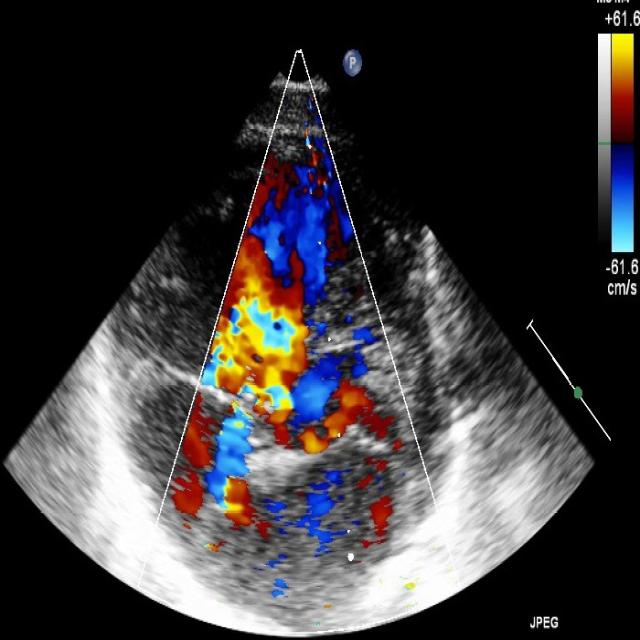VSDType2: (210, 238, 322, 433)
